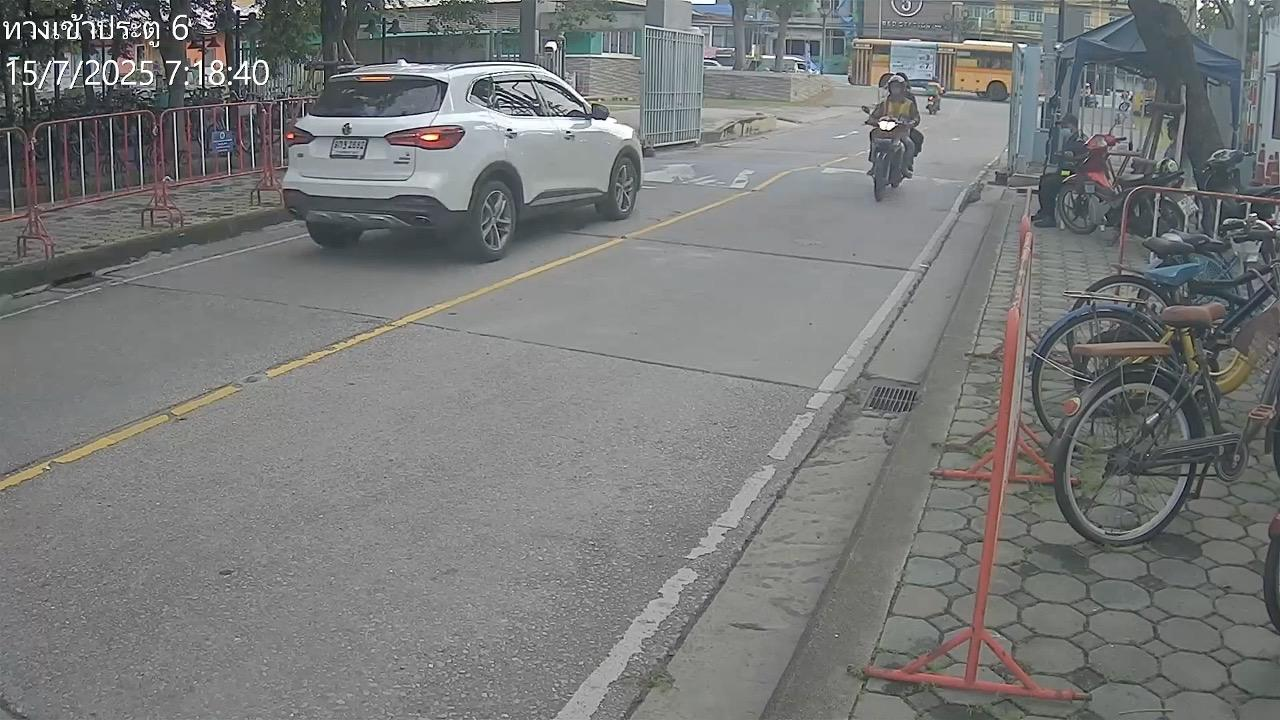With-Helmet: (888, 74, 906, 96)
